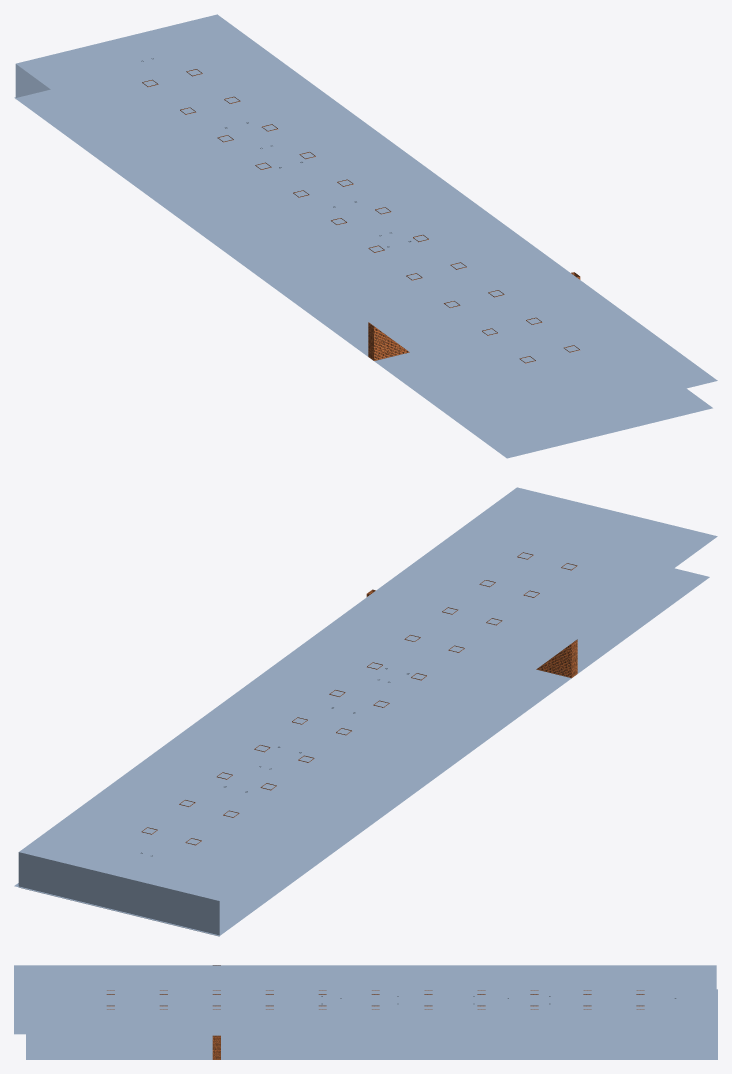
Rendered from VN-BG-Column.fbx.
3 views of the same model, one above another, from view 1: azimuth 30°, elevation 25°; view 2: azimuth 150°, elevation 25°; view 3: azimuth 270°, elevation 25° (orthographic). The views are drawn at different scales.
Visible parts, largest first — view 1: floor-upper, floor, Cube.004, Column; view 2: floor-upper, floor, Cube.004, Column; view 3: floor-upper, floor, Column, Cube.004.
Boxes of the visible parts, x1,y1,x2,y2 form: floor-upper: (15, 14, 717, 429); floor: (14, 89, 712, 458); Cube.004: (368, 272, 580, 360); Column: (142, 69, 579, 363); floor-upper: (18, 487, 717, 936); floor: (14, 568, 709, 936); Cube.004: (366, 589, 577, 678); Column: (141, 552, 577, 845); floor-upper: (14, 965, 716, 1034); floor: (26, 989, 717, 1059); Column: (106, 990, 644, 1009); Cube.004: (212, 965, 220, 1059).
Size of the model in its own units: 2021 by 340 by 8505.
